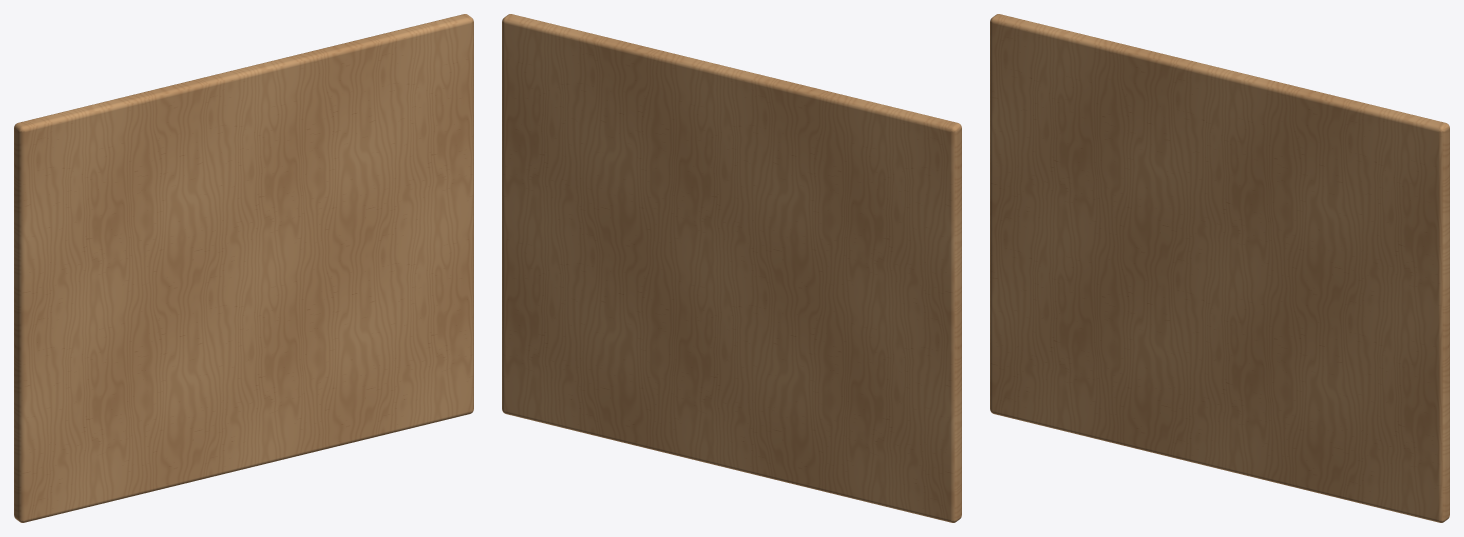
Rendered from table_top.obj.
3 views of the same model, side by side, from view 1: azimuth 30°, elevation 25°; view 2: azimuth 150°, elevation 25°; view 3: azimuth 330°, elevation 25° (orthographic).
Parts seen in each view (by area): view 1: table_top; view 2: table_top; view 3: table_top.
Boxes of the visible parts, x1=… form: table_top: x1=14, y1=14, x2=473, y2=522; table_top: x1=502, y1=14, x2=961, y2=522; table_top: x1=990, y1=14, x2=1449, y2=522.
Size of the model in its own units: 1.2 by 1 by 0.04.
1 material, 1 textured.
